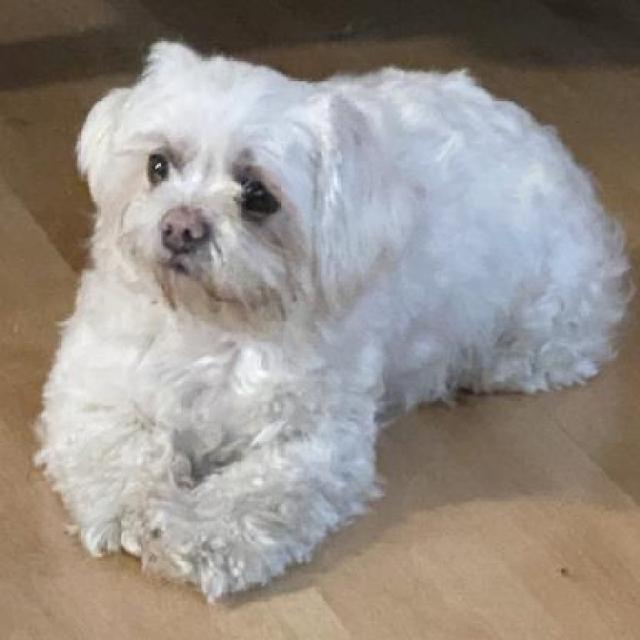Dog: (40, 37, 628, 606)
